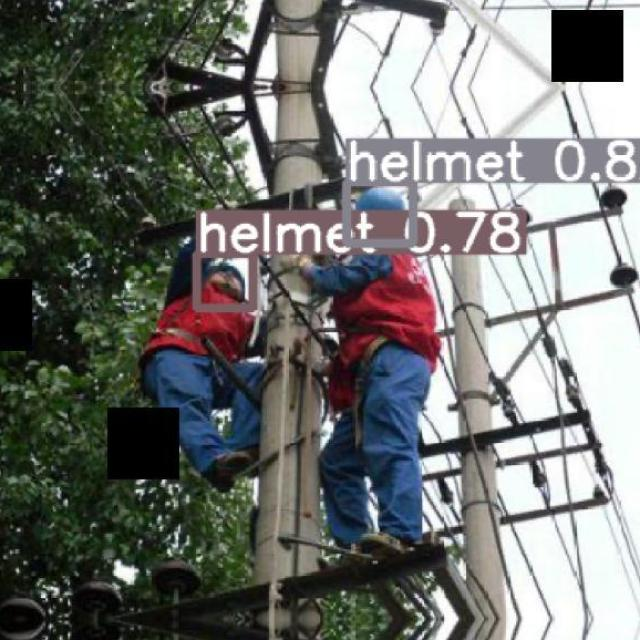helmet: (205, 261, 245, 301), (354, 186, 409, 212)
